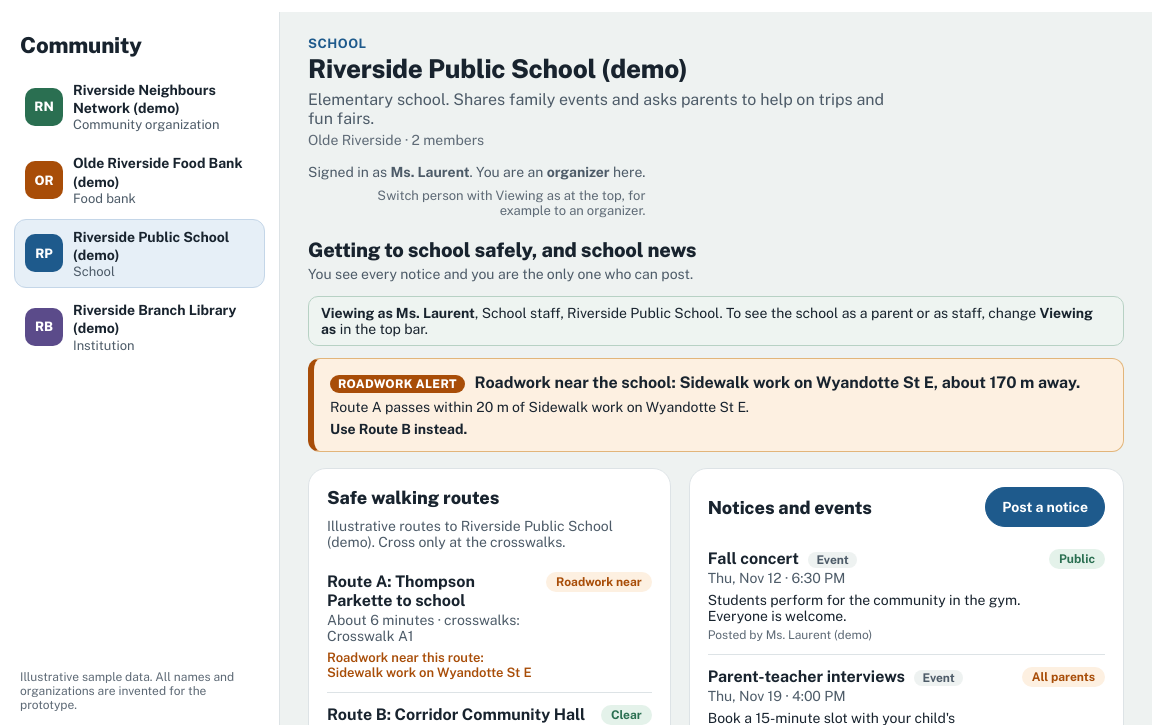
Test case: School workspace › closes the post form when "Viewing as" changes to someone who cannot post
Expected: the heading "Riverside Public School (demo)" is shown, [308,53,688,84]
Expected: the heading "Getting to school safely, and school news" is shown, [308,238,696,262]
Click the button "Post a notice". click: (1045, 507)
box: [985,487,1105,527]
(page scrolled)
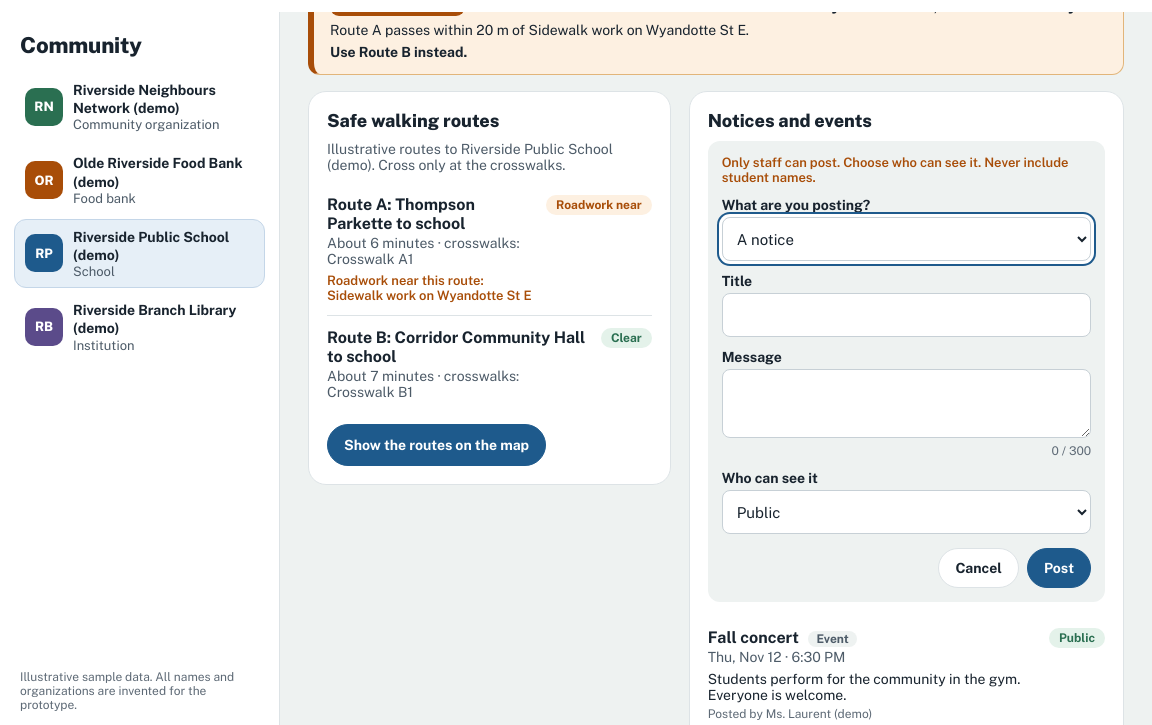
Expected: the form named "Post a notice" is shown, [708,141,1105,602]
